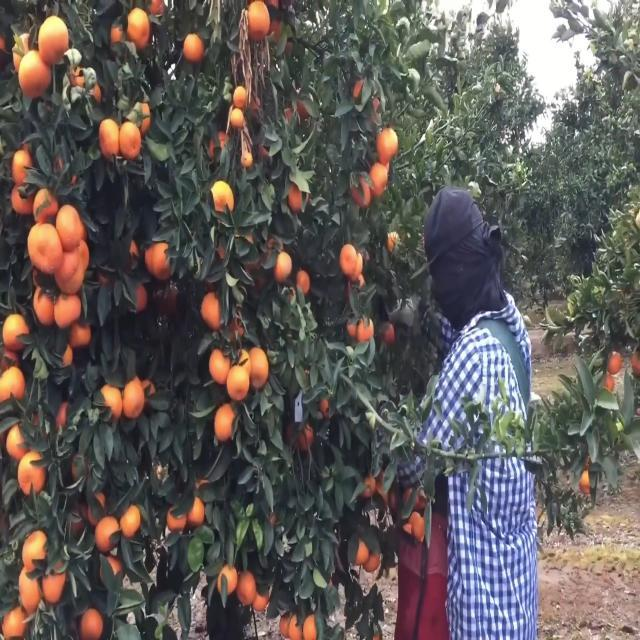Jeruk Sudah Matang: (50, 236, 92, 298), (35, 9, 74, 72), (12, 557, 48, 622), (15, 44, 53, 102), (28, 221, 62, 283), (18, 518, 54, 574), (148, 237, 182, 289), (245, 344, 279, 393), (55, 199, 85, 252), (93, 510, 124, 560), (224, 358, 254, 408), (15, 447, 46, 494), (0, 593, 29, 640), (198, 286, 226, 334), (116, 117, 145, 162), (2, 308, 30, 352), (243, 1, 273, 42), (98, 116, 124, 163), (116, 500, 146, 540), (205, 346, 233, 388), (120, 377, 147, 420), (125, 8, 152, 50), (206, 180, 236, 217), (0, 361, 24, 407), (78, 602, 106, 640), (375, 125, 400, 167), (184, 28, 208, 70), (272, 244, 296, 286), (367, 157, 390, 200), (214, 404, 236, 446), (236, 565, 256, 609), (338, 239, 358, 277), (217, 558, 238, 594), (230, 80, 251, 111), (227, 104, 244, 130)
